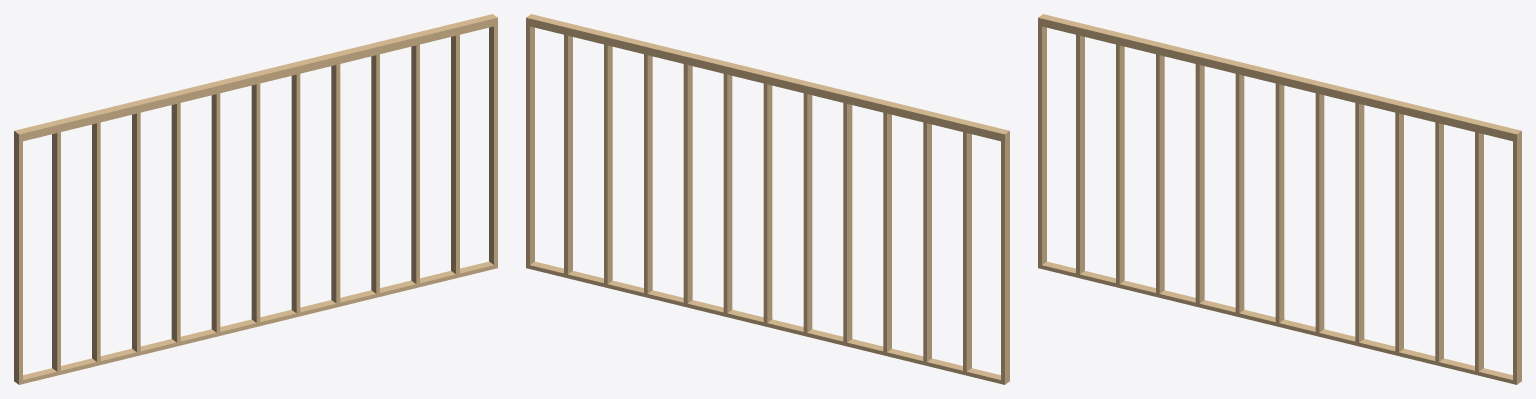
Rendered from stud_wall.glb.
3 views of the same model, side by side, from view 1: azimuth 30°, elevation 25°; view 2: azimuth 150°, elevation 25°; view 3: azimuth 330°, elevation 25° (orthographic).
Visible parts, largest first — view 1: Top Plate 2, Bottom Plate, Stud 08, Stud 06, Stud 09, Stud 05, Stud 07, Top Plate 1, Stud 01, Stud 03, Stud 04, Stud 02 (+4 smaller); view 2: Top Plate 2, Bottom Plate, Stud 08, Stud 06, Stud 09, Stud 05, Stud 07, Top Plate 1, Stud 01, Stud 03, Stud 04, Stud 02 (+4 smaller); view 3: Top Plate 2, Bottom Plate, Stud 06, Stud 05, Stud 08, Stud 09, Stud 07, Top Plate 1, Stud 13, Stud 10, Stud 11, Stud 01 (+4 smaller).
Part boxes in pixels (x1,y1,x2,y2): Top Plate 2: (14,14,497,138); Bottom Plate: (14,261,497,384); Stud 08: (291,74,300,313); Stud 06: (211,93,220,332); Stud 09: (331,64,340,303); Stud 05: (171,103,180,342); Stud 07: (251,83,260,322); Top Plate 1: (14,21,497,142); Stud 01: (14,139,22,380); Stud 03: (92,122,100,361); Stud 04: (132,112,140,352); Stud 02: (52,132,60,371); Top Plate 2: (526,14,1009,138); Bottom Plate: (526,261,1009,384); Stud 08: (723,74,732,313); Stud 06: (803,93,812,332); Stud 09: (683,64,692,303); Stud 05: (843,103,852,342); Stud 07: (763,83,772,322); Top Plate 1: (526,21,1009,142); Stud 01: (1001,139,1009,380); Stud 03: (923,122,931,361); Stud 04: (883,112,891,352); Stud 02: (963,132,971,371); Top Plate 2: (1038,14,1521,138); Bottom Plate: (1038,261,1521,384); Stud 06: (1235,74,1244,313); Stud 05: (1195,64,1204,303); Stud 08: (1315,93,1324,332); Stud 09: (1355,103,1364,342); Stud 07: (1275,83,1284,322); Top Plate 1: (1038,21,1521,142); Stud 13: (1513,139,1521,380); Stud 10: (1395,112,1403,352); Stud 11: (1435,122,1443,361); Stud 01: (1038,25,1046,264).
Bounding box in the file's own units: 4.88 × 2.44 × 0.0889.
